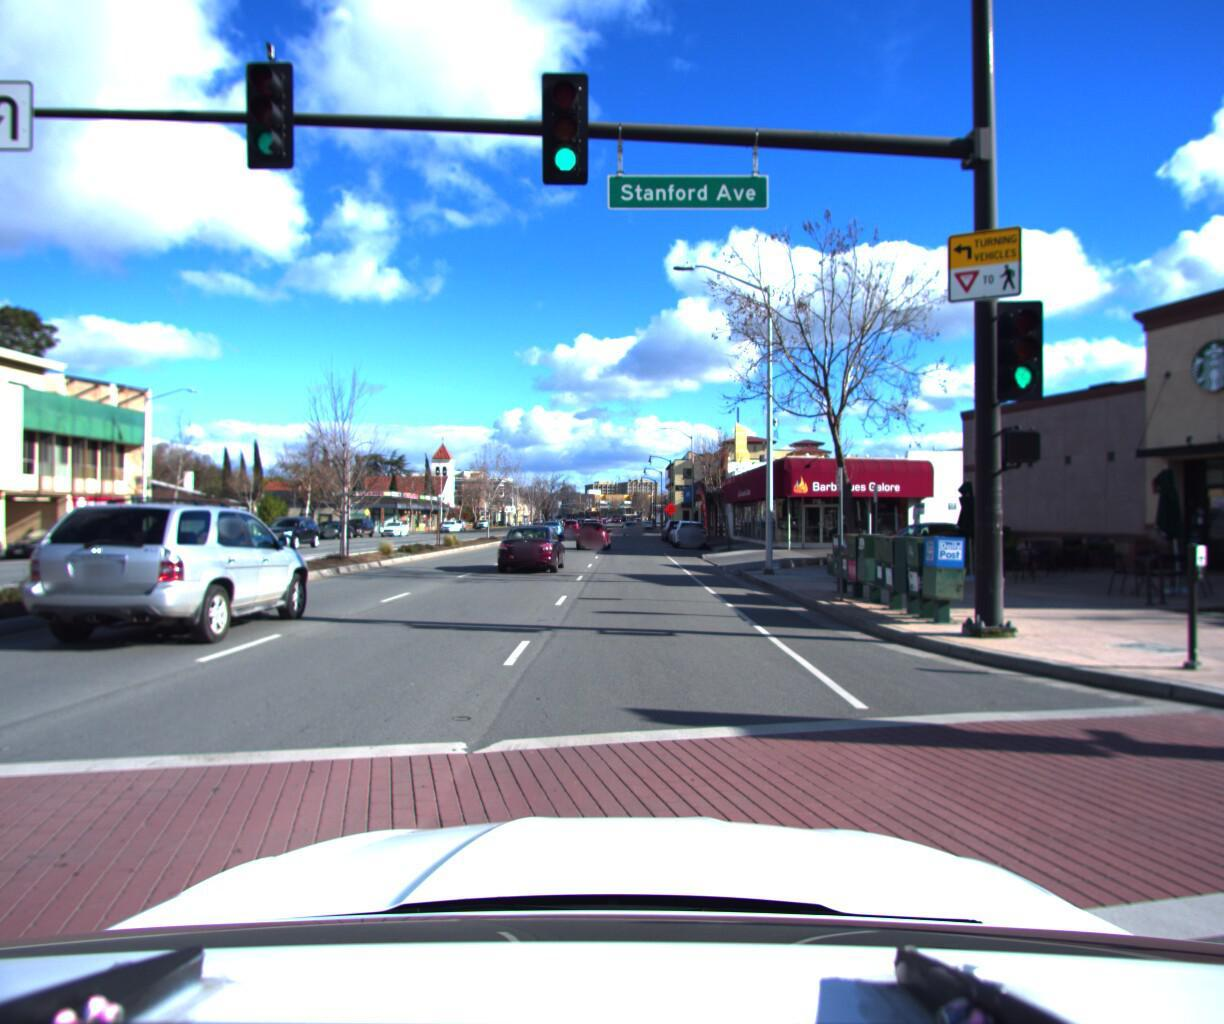car: (17, 483, 327, 653), (847, 520, 995, 565), (501, 520, 570, 576), (5, 528, 107, 563), (257, 517, 327, 551), (577, 522, 615, 552), (672, 520, 708, 549), (384, 520, 417, 538), (545, 520, 570, 539)
